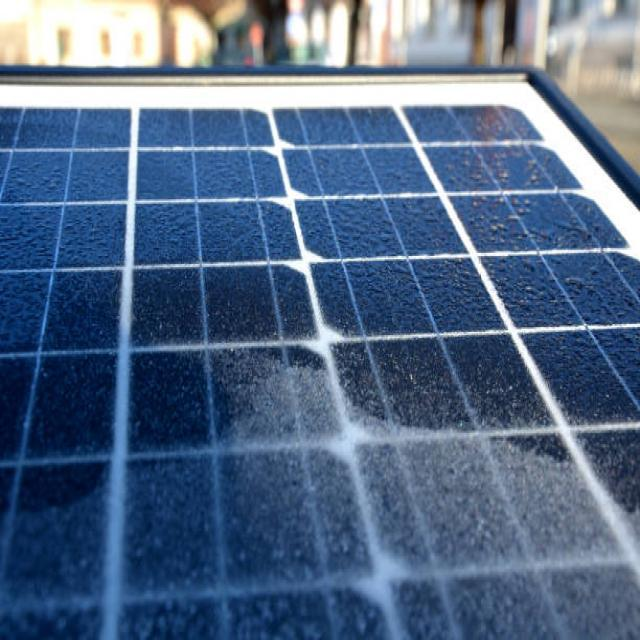faulty: (0, 65, 640, 640)
